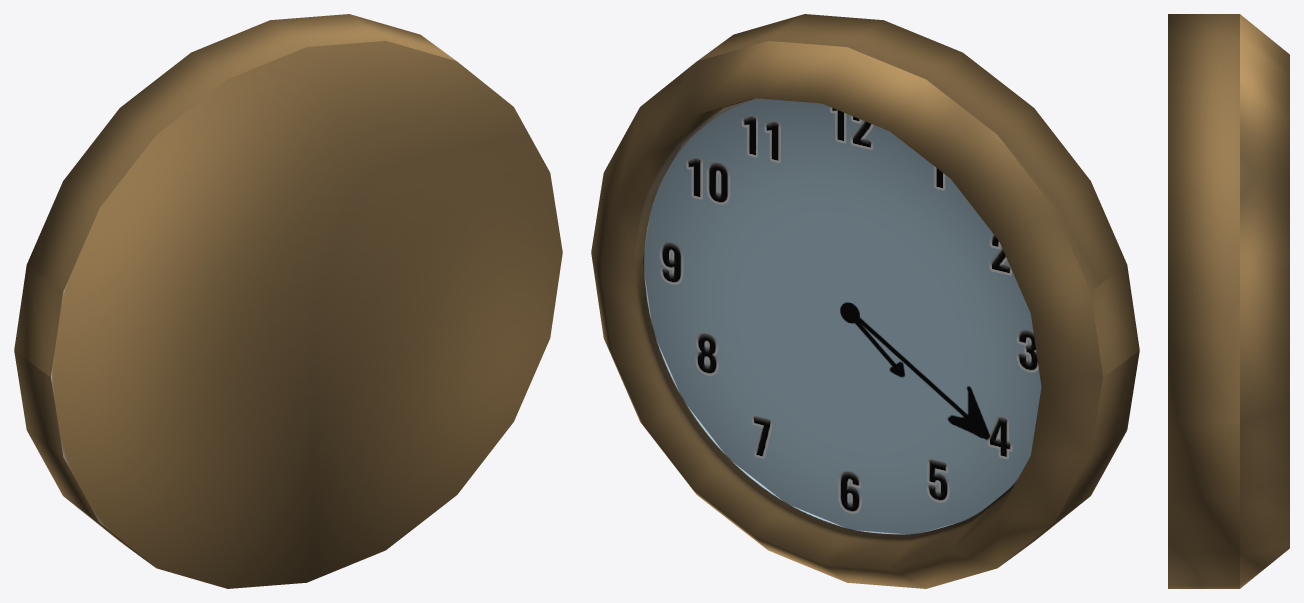
File: Clock.fbx
The picture shows the model from 3 angles, left to right: view 1: azimuth 30°, elevation 25°; view 2: azimuth 150°, elevation 25°; view 3: azimuth 270°, elevation 25°; orthographic projection. The views are drawn at different scales.
Visible parts, largest first — view 1: polySurface46; view 2: polySurface46; view 3: polySurface46.
Part boxes in pixels (<box>): polySurface46: <box>14,14,562,588</box>; polySurface46: <box>591,14,1139,588</box>; polySurface46: <box>1168,14,1289,588</box>.
Size of the model in its own units: 63.18 by 63.18 by 13.29.
